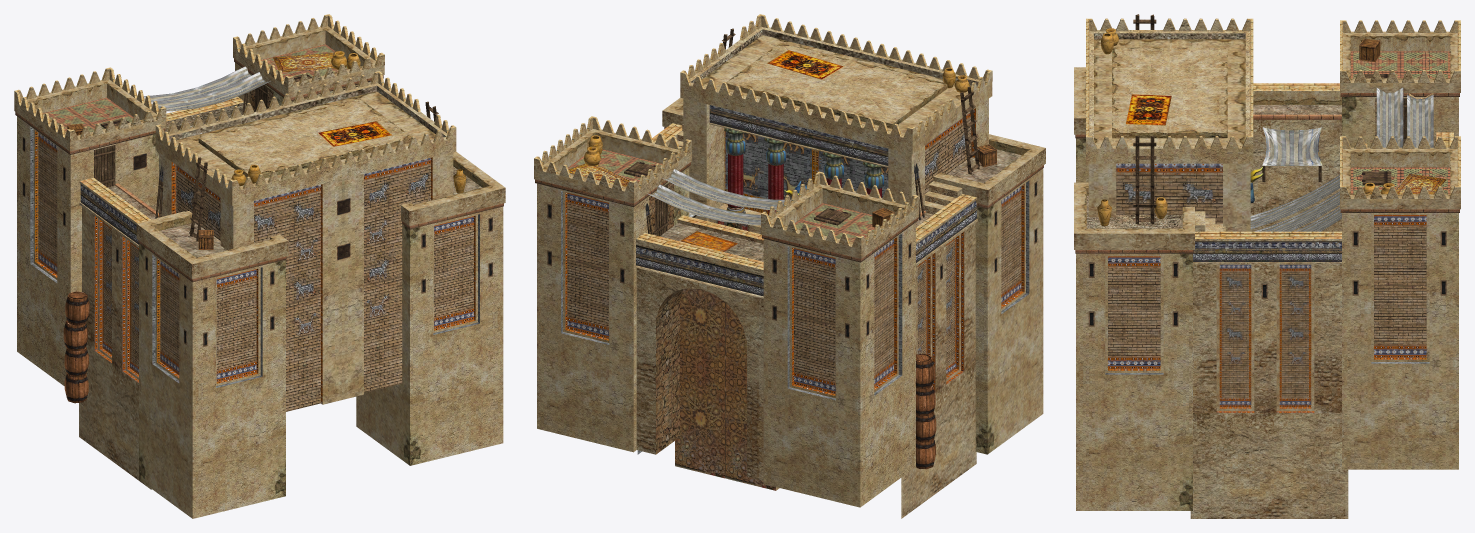
File: pers_fortress.glb
3 renders of one model, left to right at view 1: azimuth 30°, elevation 25°; view 2: azimuth 150°, elevation 25°; view 3: azimuth 270°, elevation 25°, orthographic. The views are drawn at different scales.
Size of the model in its own units: 24.55 by 24.43 by 23.32.
1 material, 1 textured.
